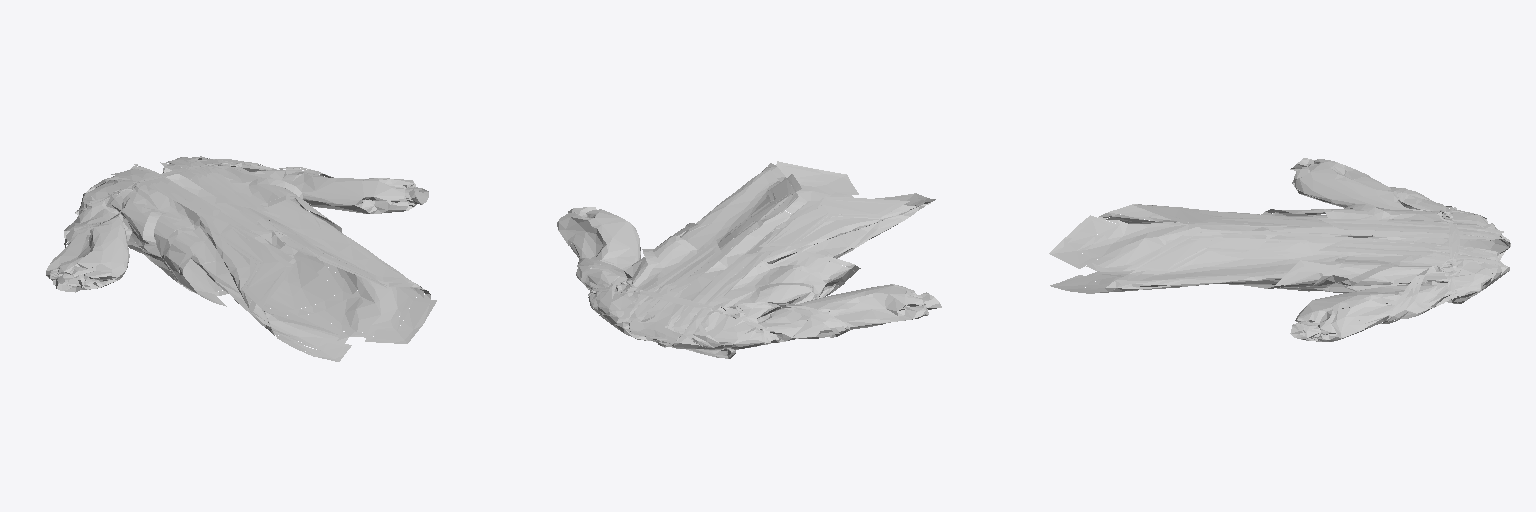
File: raincoat3.obj
The picture shows the model from 3 angles: view 1: azimuth 30°, elevation 25°; view 2: azimuth 150°, elevation 25°; view 3: azimuth 270°, elevation 25°; orthographic projection.
Visible parts, largest first — view 1: RealityNomad-Outerwear-Unzipped.001_obj_final_unzipped.003; view 2: RealityNomad-Outerwear-Unzipped.001_obj_final_unzipped.003; view 3: RealityNomad-Outerwear-Unzipped.001_obj_final_unzipped.003.
Part boxes in pixels (x1,y1,x2,y2): RealityNomad-Outerwear-Unzipped.001_obj_final_unzipped.003: (46, 156, 436, 361); RealityNomad-Outerwear-Unzipped.001_obj_final_unzipped.003: (557, 161, 941, 358); RealityNomad-Outerwear-Unzipped.001_obj_final_unzipped.003: (1049, 158, 1510, 341).
Bounding box in the file's own units: 1.19 × 0.1763 × 1.28.